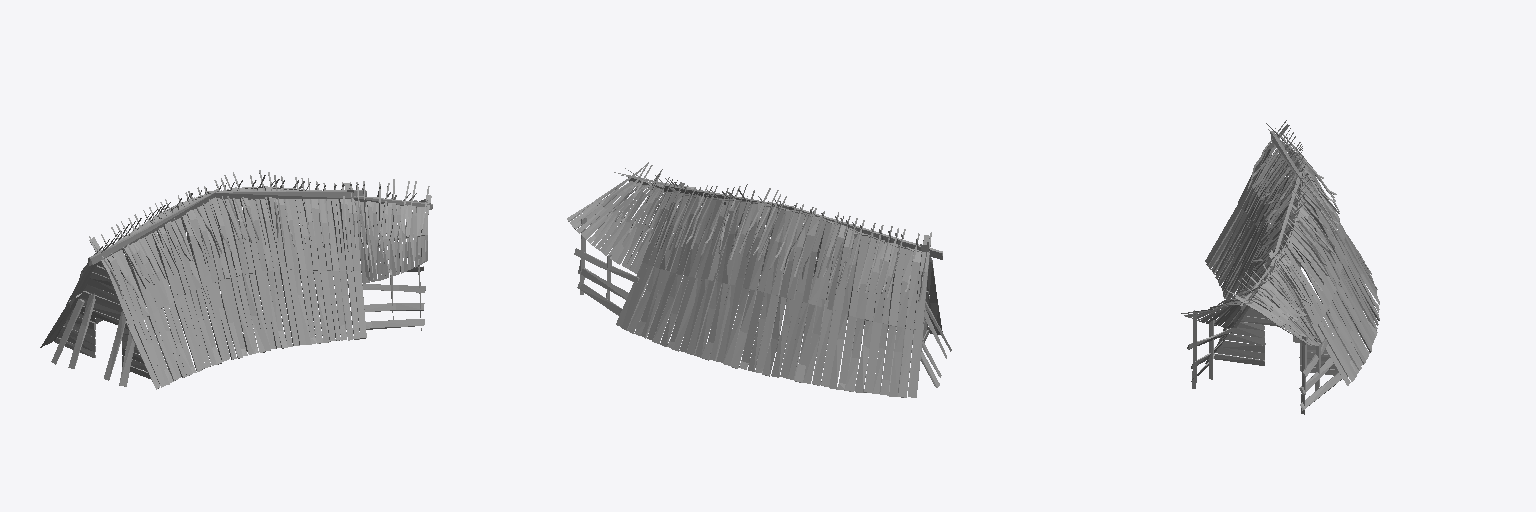
Rendered from LOD2_viking_eagle_hut.obj.
3 views of the same model, side by side, from view 1: azimuth 30°, elevation 25°; view 2: azimuth 150°, elevation 25°; view 3: azimuth 270°, elevation 25° (orthographic).
Parts seen in each view (by area): view 1: Cube.002_Cube.004; view 2: Cube.002_Cube.004; view 3: Cube.002_Cube.004.
Boxes of the visible parts, <box> form: Cube.002_Cube.004: <box>40,170,432,389</box>; Cube.002_Cube.004: <box>567,162,951,397</box>; Cube.002_Cube.004: <box>1181,120,1379,414</box>.
Bounding box in the file's own units: 28.77 × 10.89 × 13.31.